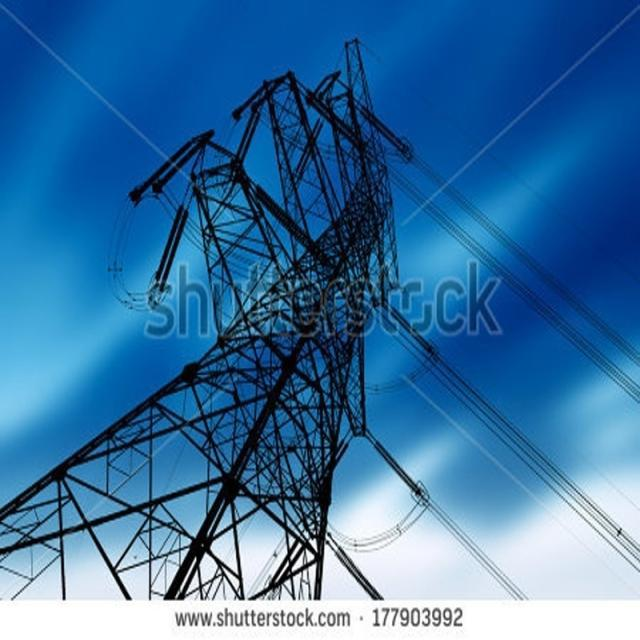non-critical vegetation: (11, 44, 466, 600)
